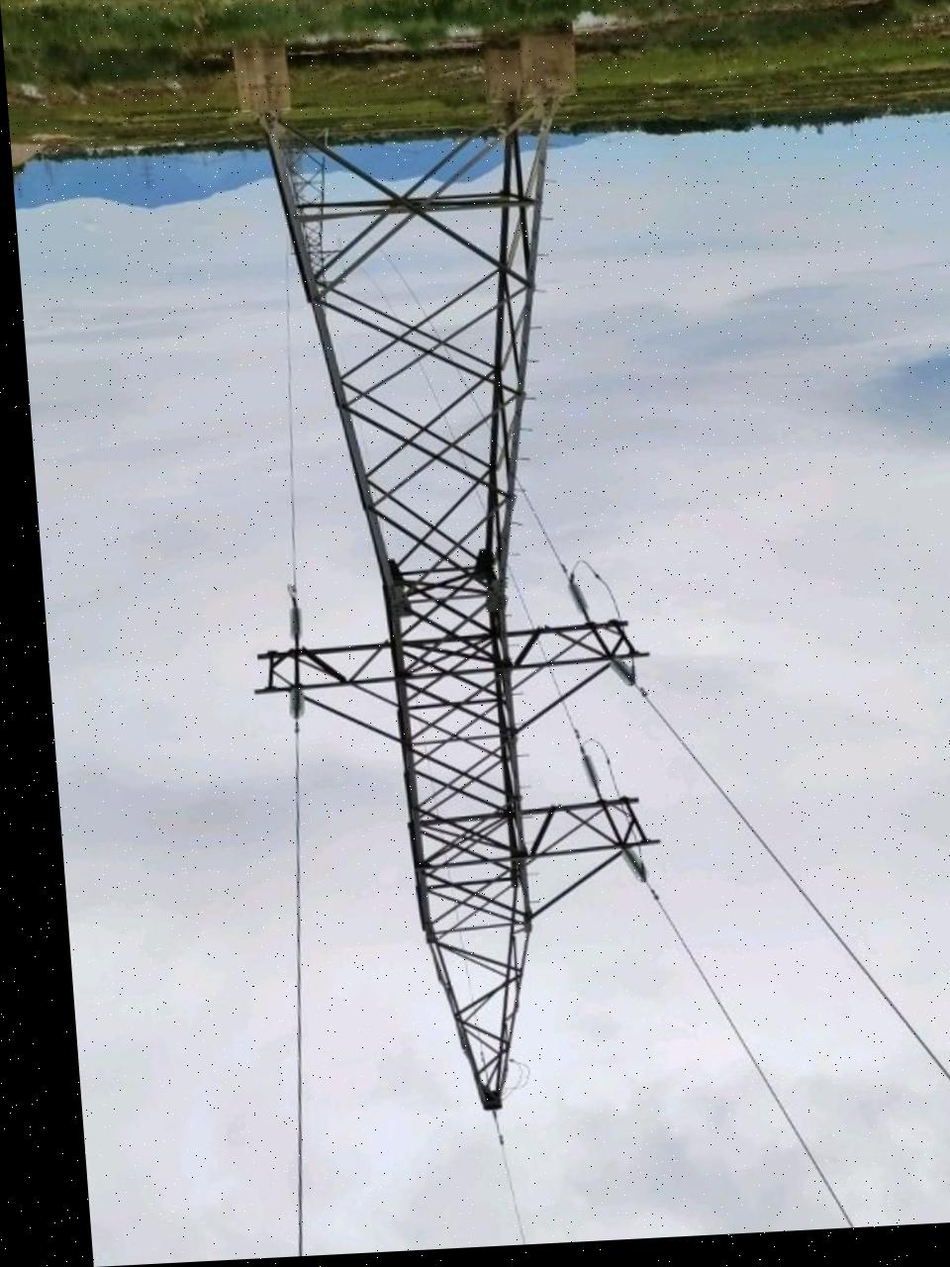tower: (179, 1, 711, 1139)
